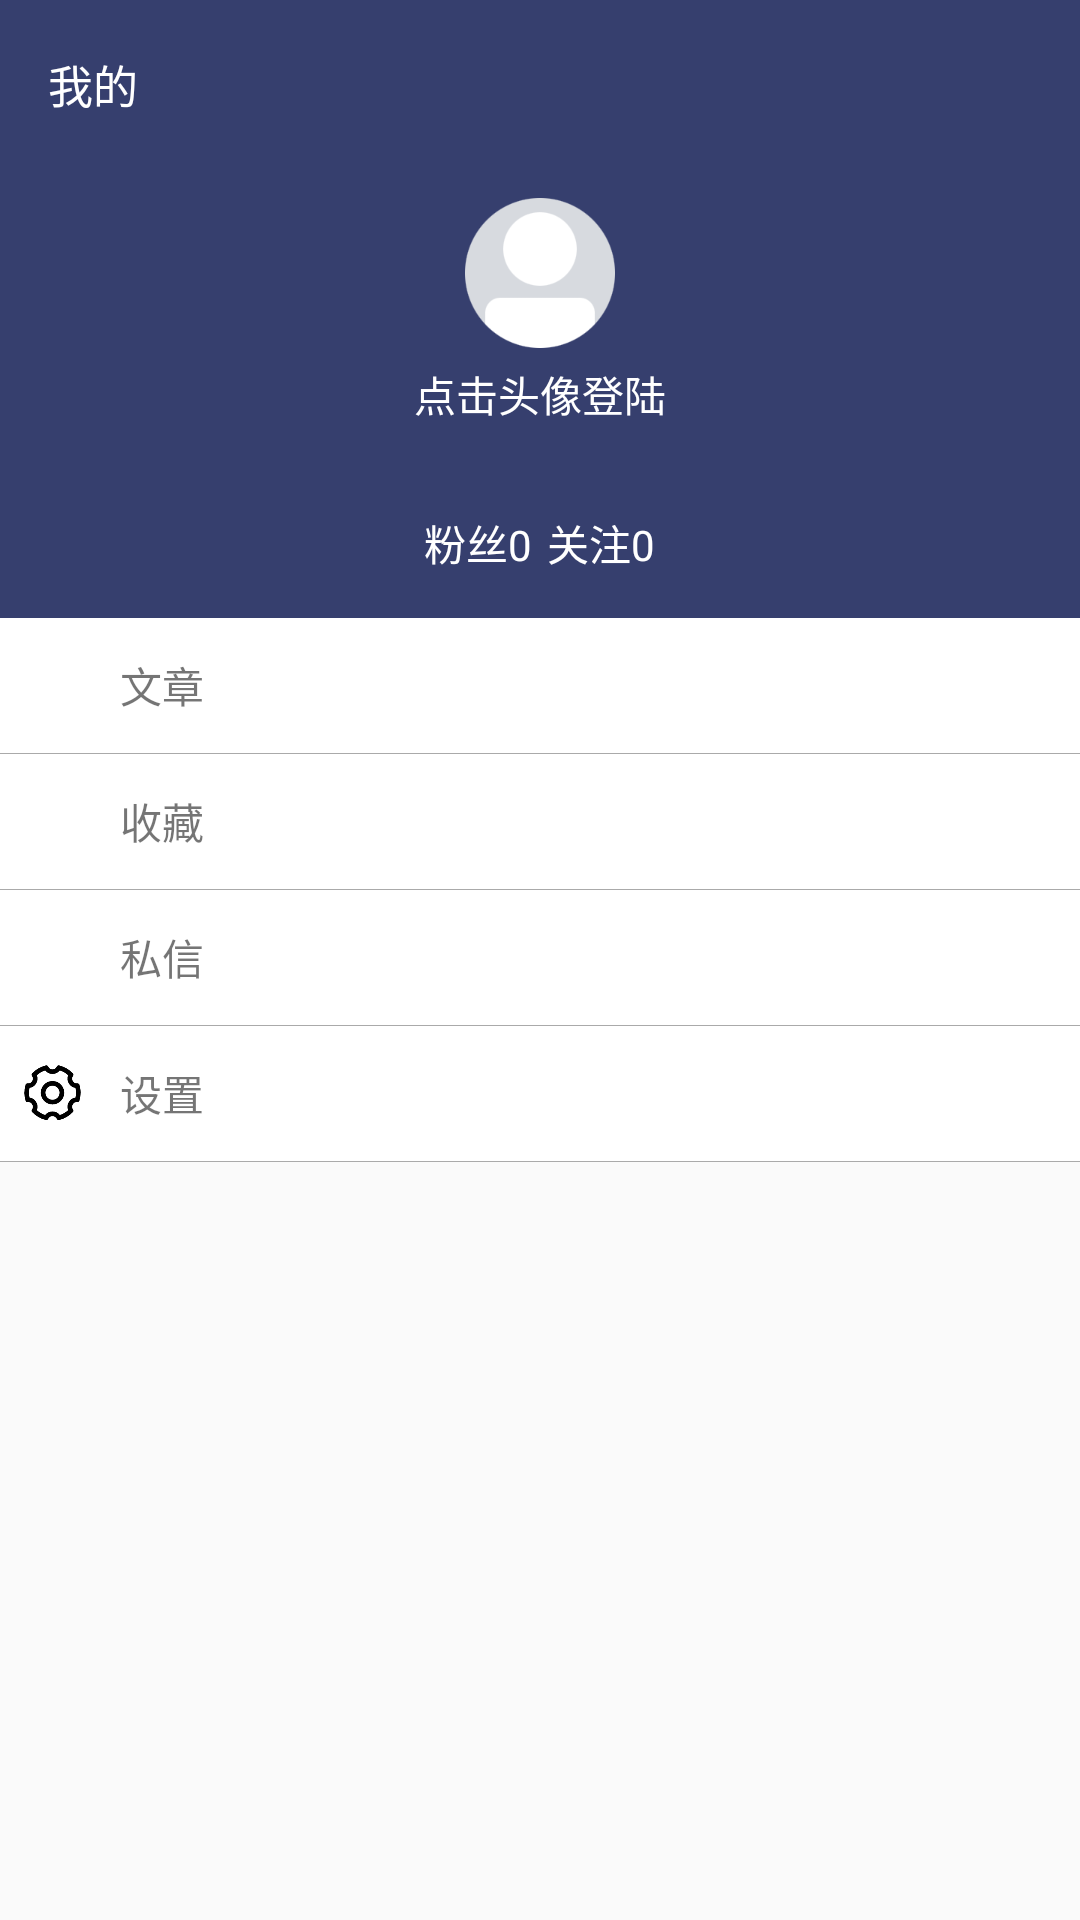

Locate icon controls on the screen. Image size 1080×1920, boxes as (x1, y1, x2, y2).
setup: (24, 1065, 81, 1120)
